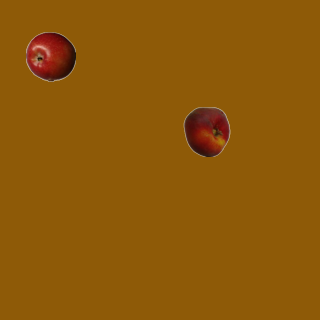Apple Braeburn: (25, 31, 75, 81)
Nectarine Flat: (181, 106, 231, 156)
